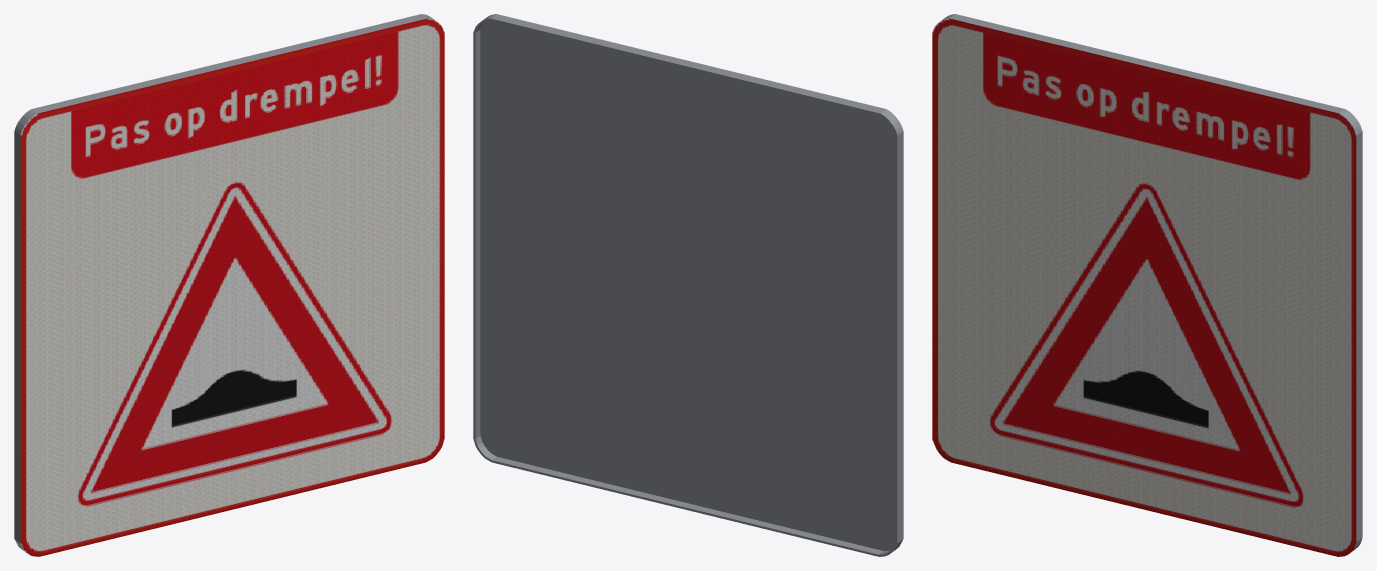
3 views of the same model, side by side, from view 1: azimuth 30°, elevation 25°; view 2: azimuth 150°, elevation 25°; view 3: azimuth 330°, elevation 25° (orthographic).
Visible parts, largest first — view 1: cat_e7736b958c6d78fb; view 2: cat_e7736b958c6d78fb; view 3: cat_e7736b958c6d78fb.
Part boxes in pixels (x1,y1,x2,y2): cat_e7736b958c6d78fb: [14, 14, 444, 556]; cat_e7736b958c6d78fb: [473, 14, 903, 556]; cat_e7736b958c6d78fb: [932, 14, 1362, 556].
Size of the model in its own units: 0.6 by 0.015 by 0.6.
Materials: 2 (1 with a texture image).
